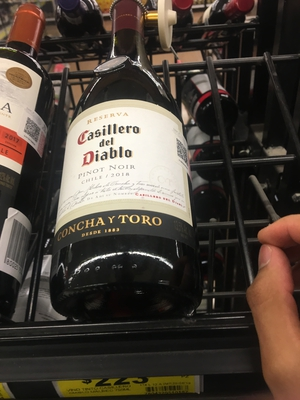casillero del diablo pinot noir: (50, 20, 193, 305)
